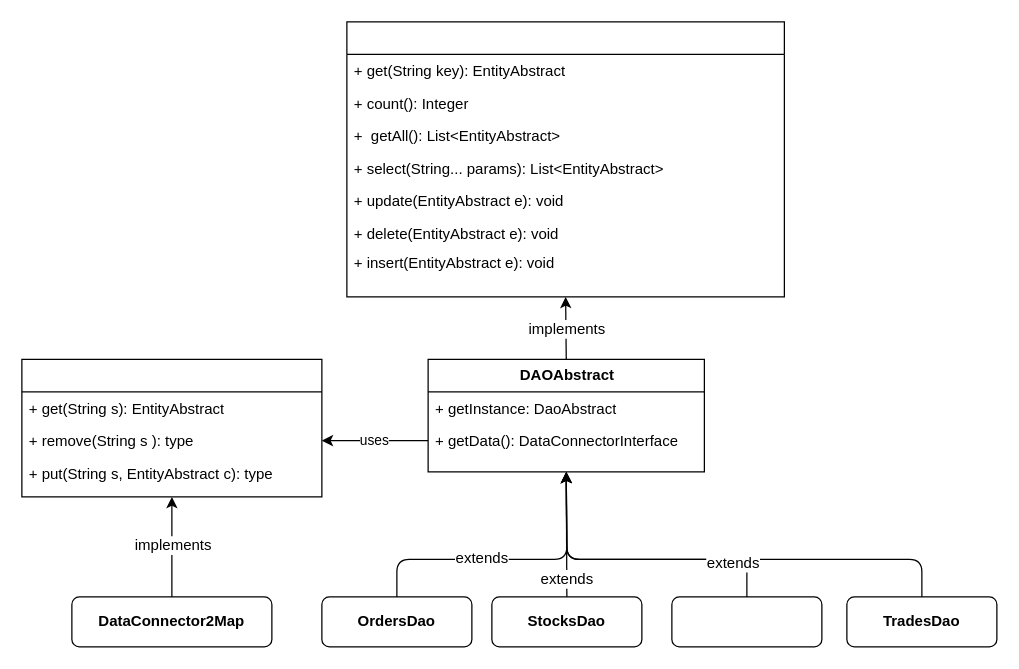
The diagram is 1019 pixels wide and 669 high, and some of its shapes have lost their labels. The box of each missing label's shape, as (x1, y1, x2, y2) in pixels:
DaoInterface: (346, 21, 784, 297)
DataConnectorInterface: (21, 358, 322, 497)
TradersDao: (671, 596, 822, 647)
